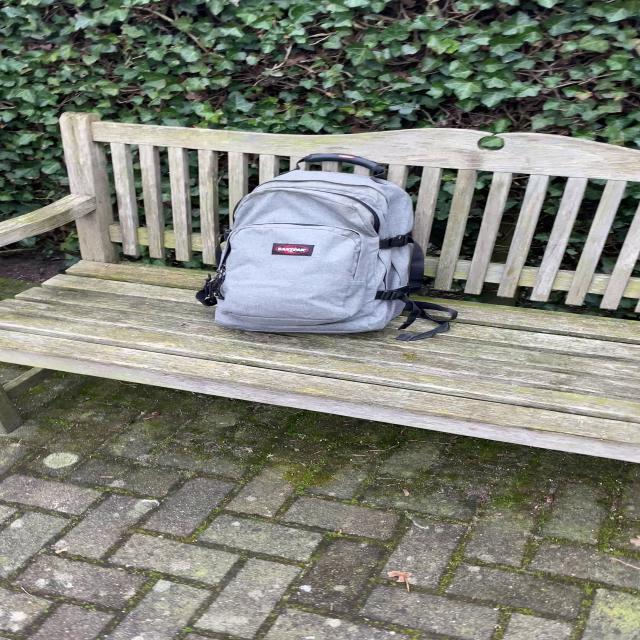backpack: (194, 152, 432, 338)
